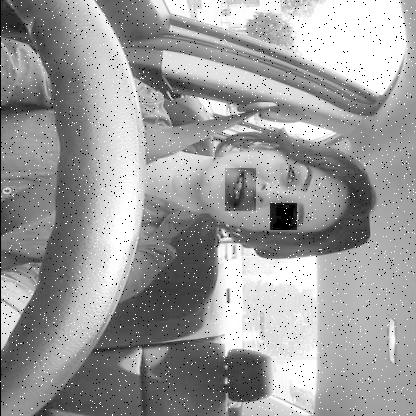seatbelt: (0, 115, 392, 257)
